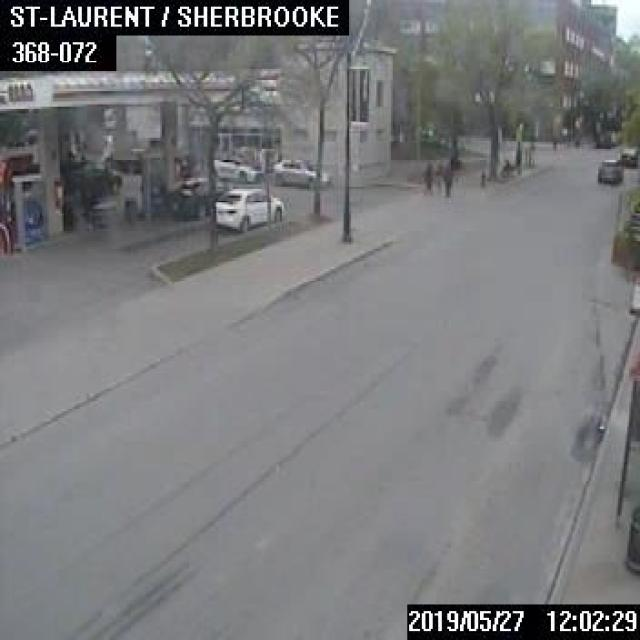pedestrian: (418, 160, 431, 193), (441, 163, 452, 196)
vehicle: (212, 185, 282, 230), (166, 176, 231, 217), (271, 156, 328, 189), (210, 155, 263, 182), (81, 163, 121, 191), (596, 157, 620, 180), (620, 143, 638, 165)
